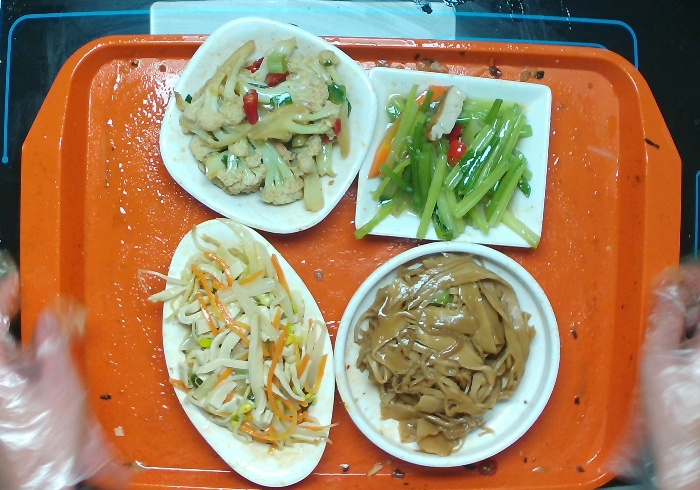HZYJPL-Si_Fang_Die: (352, 66, 553, 248)
HZYJPL-Si_Fang_Yuan_Die: (158, 15, 379, 235)
HZYJPL-Xiao_Yu_Die: (160, 217, 337, 490)
HZYJPL-Xiao_Yuan_Die: (332, 239, 561, 469)
